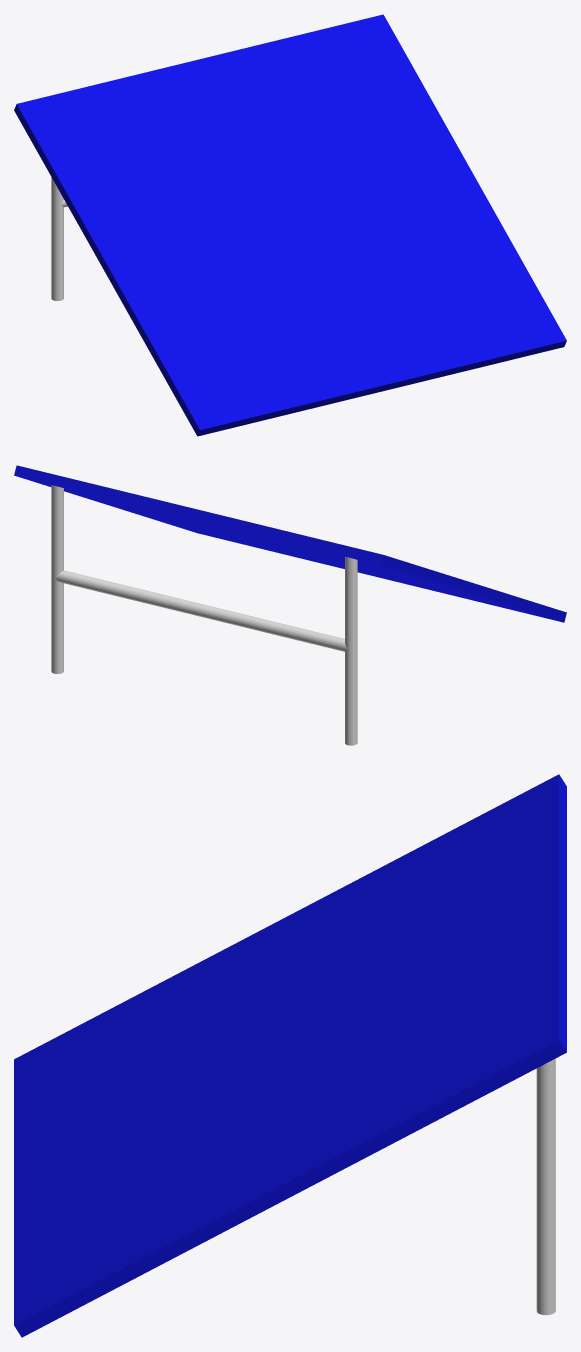
File: solar_panel.glb
3 views of the same model, one above another, from view 1: azimuth 30°, elevation 25°; view 2: azimuth 150°, elevation 25°; view 3: azimuth 270°, elevation 25° (orthographic). The views are drawn at different scales.
Parts seen in each view (by area): view 1: Plane, Cylinder.001; view 2: Plane, Cylinder.002, Cylinder.001, Cylinder; view 3: Plane, Cylinder.
Part boxes in pixels (box(x1,y1,x2,y2)): Plane: box(14, 14, 566, 436); Cylinder.001: box(51, 177, 63, 300); Plane: box(14, 465, 566, 622); Cylinder.002: box(54, 570, 347, 651); Cylinder.001: box(345, 556, 357, 745); Cylinder: box(51, 485, 63, 673); Plane: box(14, 774, 566, 1337); Cylinder: box(536, 1058, 555, 1315).
Bounding box in the file's own units: 2 × 1.04 × 1.76.
